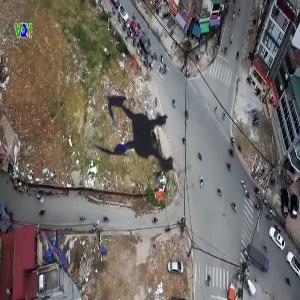drone: (44, 40, 239, 235)
